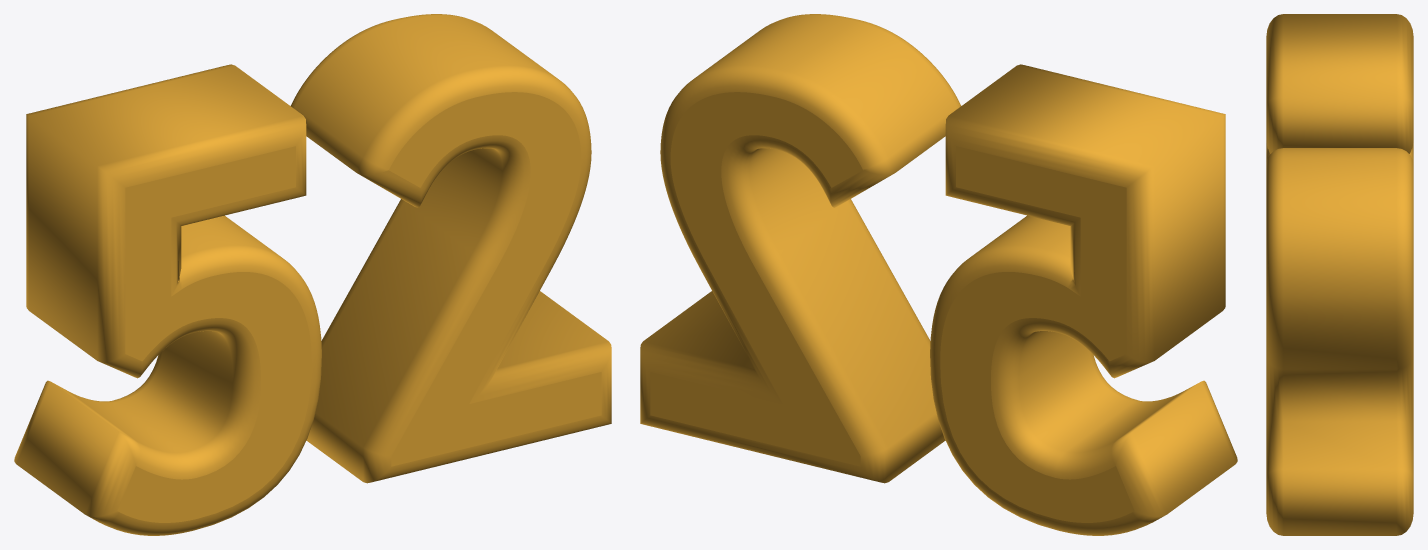
The picture shows the model from 3 angles, left to right: view 1: azimuth 30°, elevation 25°; view 2: azimuth 150°, elevation 25°; view 3: azimuth 270°, elevation 25°; orthographic projection. The views are drawn at different scales.
Parts seen in each view (by area): view 1: Text; view 2: Text; view 3: Text.
Boxes of the visible parts, bbox=[...] form: Text: bbox=[14, 14, 611, 535]; Text: bbox=[640, 14, 1237, 535]; Text: bbox=[1266, 14, 1413, 535].
Bounding box in the file's own units: 88.49 × 63.03 × 26.
